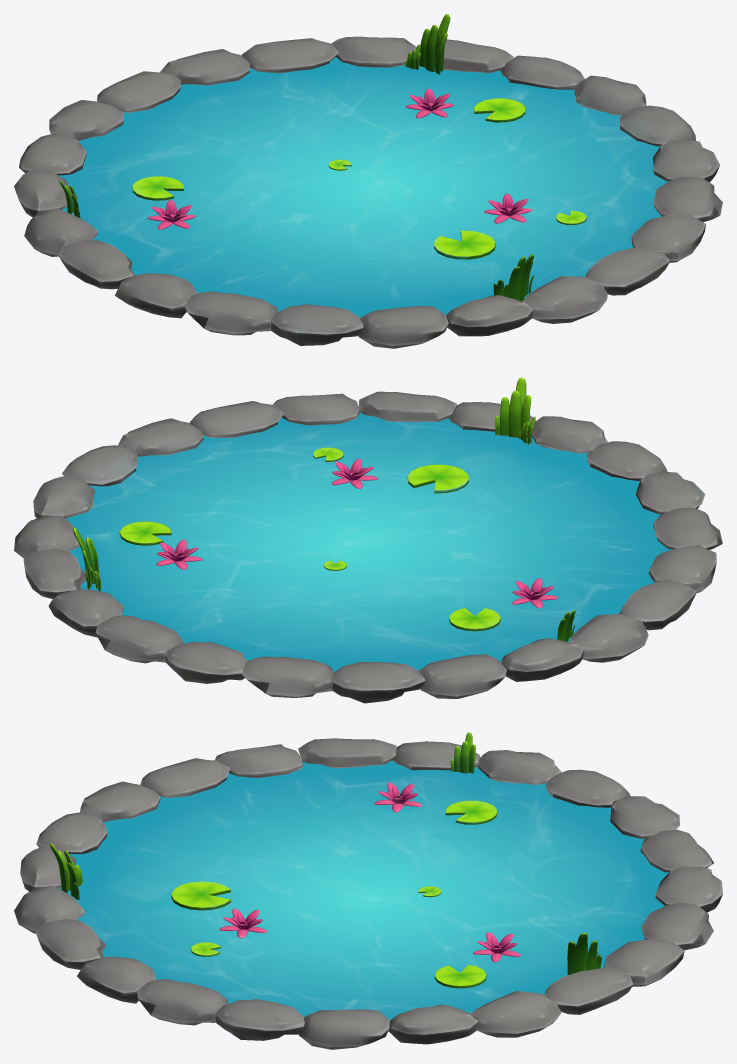
Rendered from pond.glb.
The picture shows the model from 3 angles, top to bottom: view 1: azimuth 30°, elevation 25°; view 2: azimuth 150°, elevation 25°; view 3: azimuth 270°, elevation 25°; orthographic projection.
Parts seen in each view (by area): view 1: Pond; view 2: Pond; view 3: Pond.
Part boxes in pixels (left/top/right/bottom): Pond: left=14, top=14, right=722, bottom=348; Pond: left=14, top=377, right=722, bottom=703; Pond: left=14, top=732, right=722, bottom=1049.
Size of the model in its own units: 43.85 by 4.54 by 44.07.
1 material, 1 textured.
